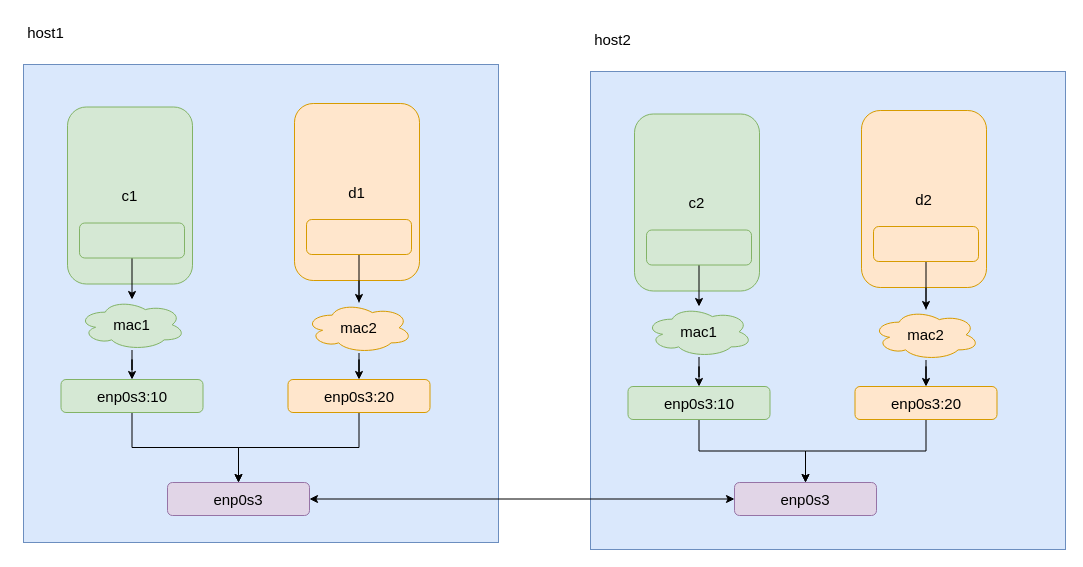
Some shapes in this 1083 by 567 pixel diagram are drawn without their labels. Each missing label, with the centre of its shape:
"172.16.10.10 eth0" goes at (x=131, y=240).
"172.16.10.11 eth0" goes at (x=699, y=247).
"172.16.10.20 eth0" goes at (x=359, y=236).
"172.16.10.21 eth0" goes at (x=925, y=244).
